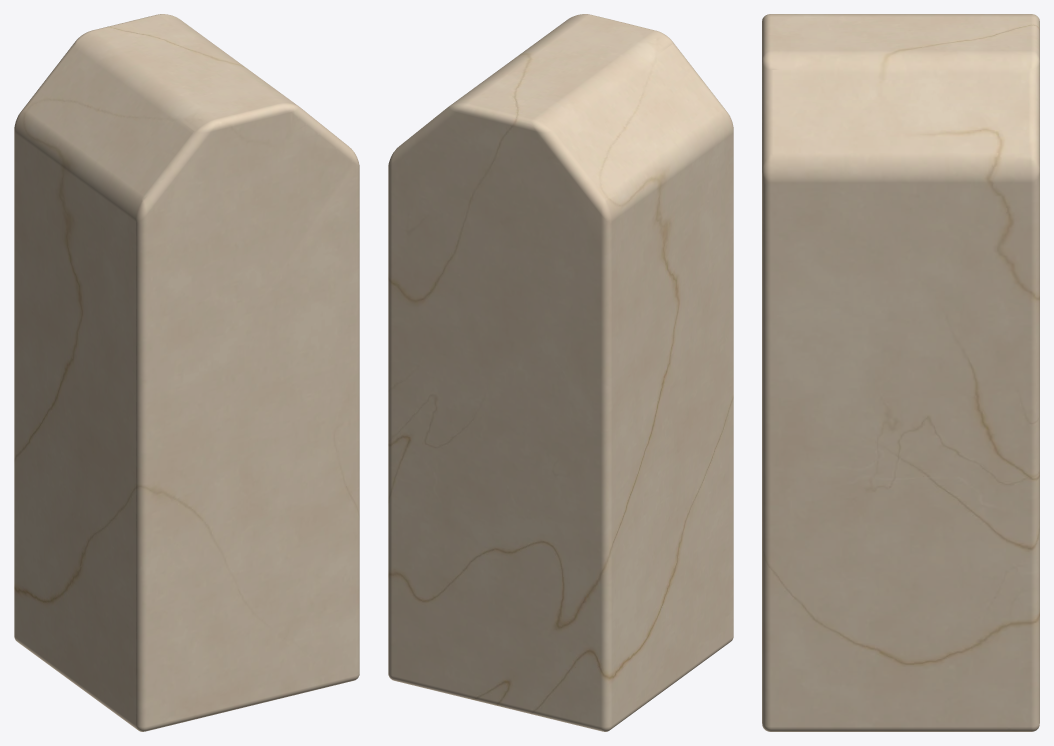
The model's file is pawn-white-hd.glb.
The picture shows the model from 3 angles, left to right: view 1: azimuth 30°, elevation 25°; view 2: azimuth 150°, elevation 25°; view 3: azimuth 270°, elevation 25°; orthographic projection. The views are drawn at different scales.
Parts seen in each view (by area): view 1: pesec_bily; view 2: pesec_bily; view 3: pesec_bily.
Boxes of the visible parts, <box> form: pesec_bily: <box>14,14,359,731</box>; pesec_bily: <box>388,14,733,731</box>; pesec_bily: <box>762,14,1039,731</box>.
Bounding box in the file's own units: 0.4274 × 1.09 × 0.4274.
Materials: 1 (1 with a texture image).
